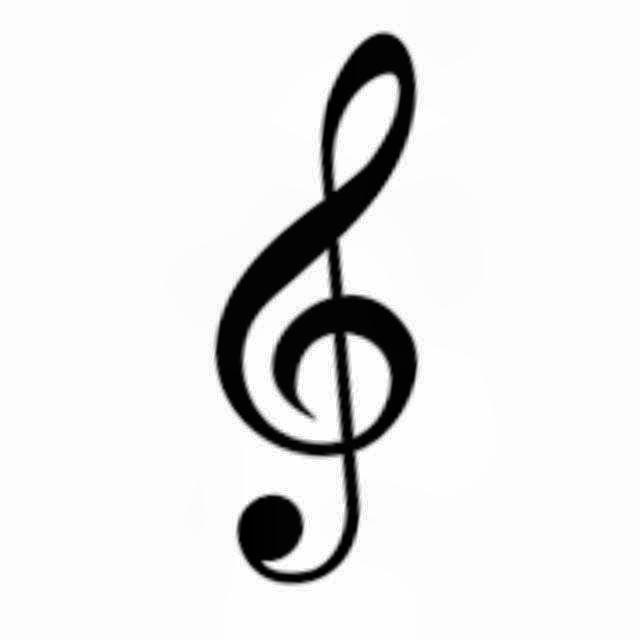Treble-clef: (198, 20, 452, 588)
